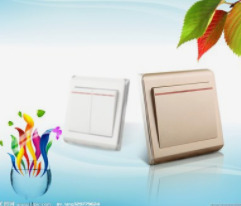switch: (156, 85, 217, 142), (73, 87, 113, 137)
